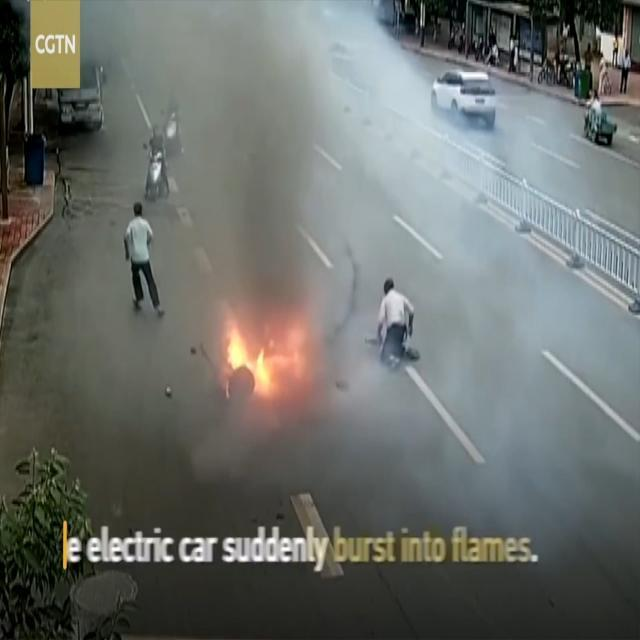fire: (216, 314, 318, 416)
